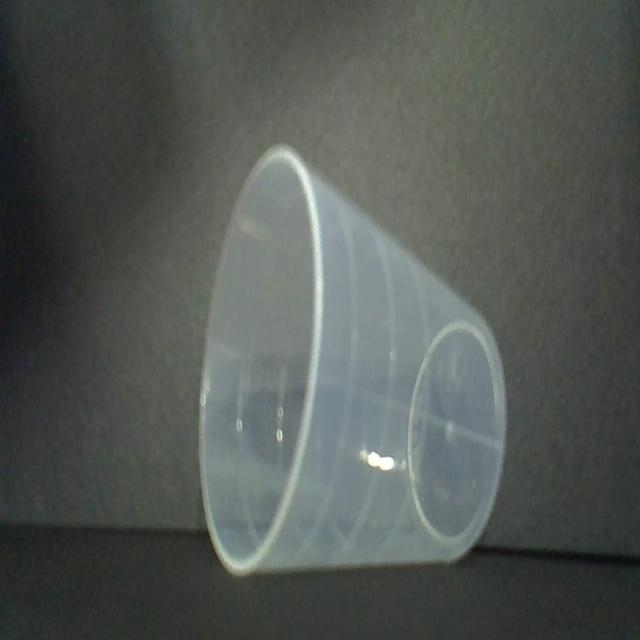cup: (196, 142, 510, 573)
